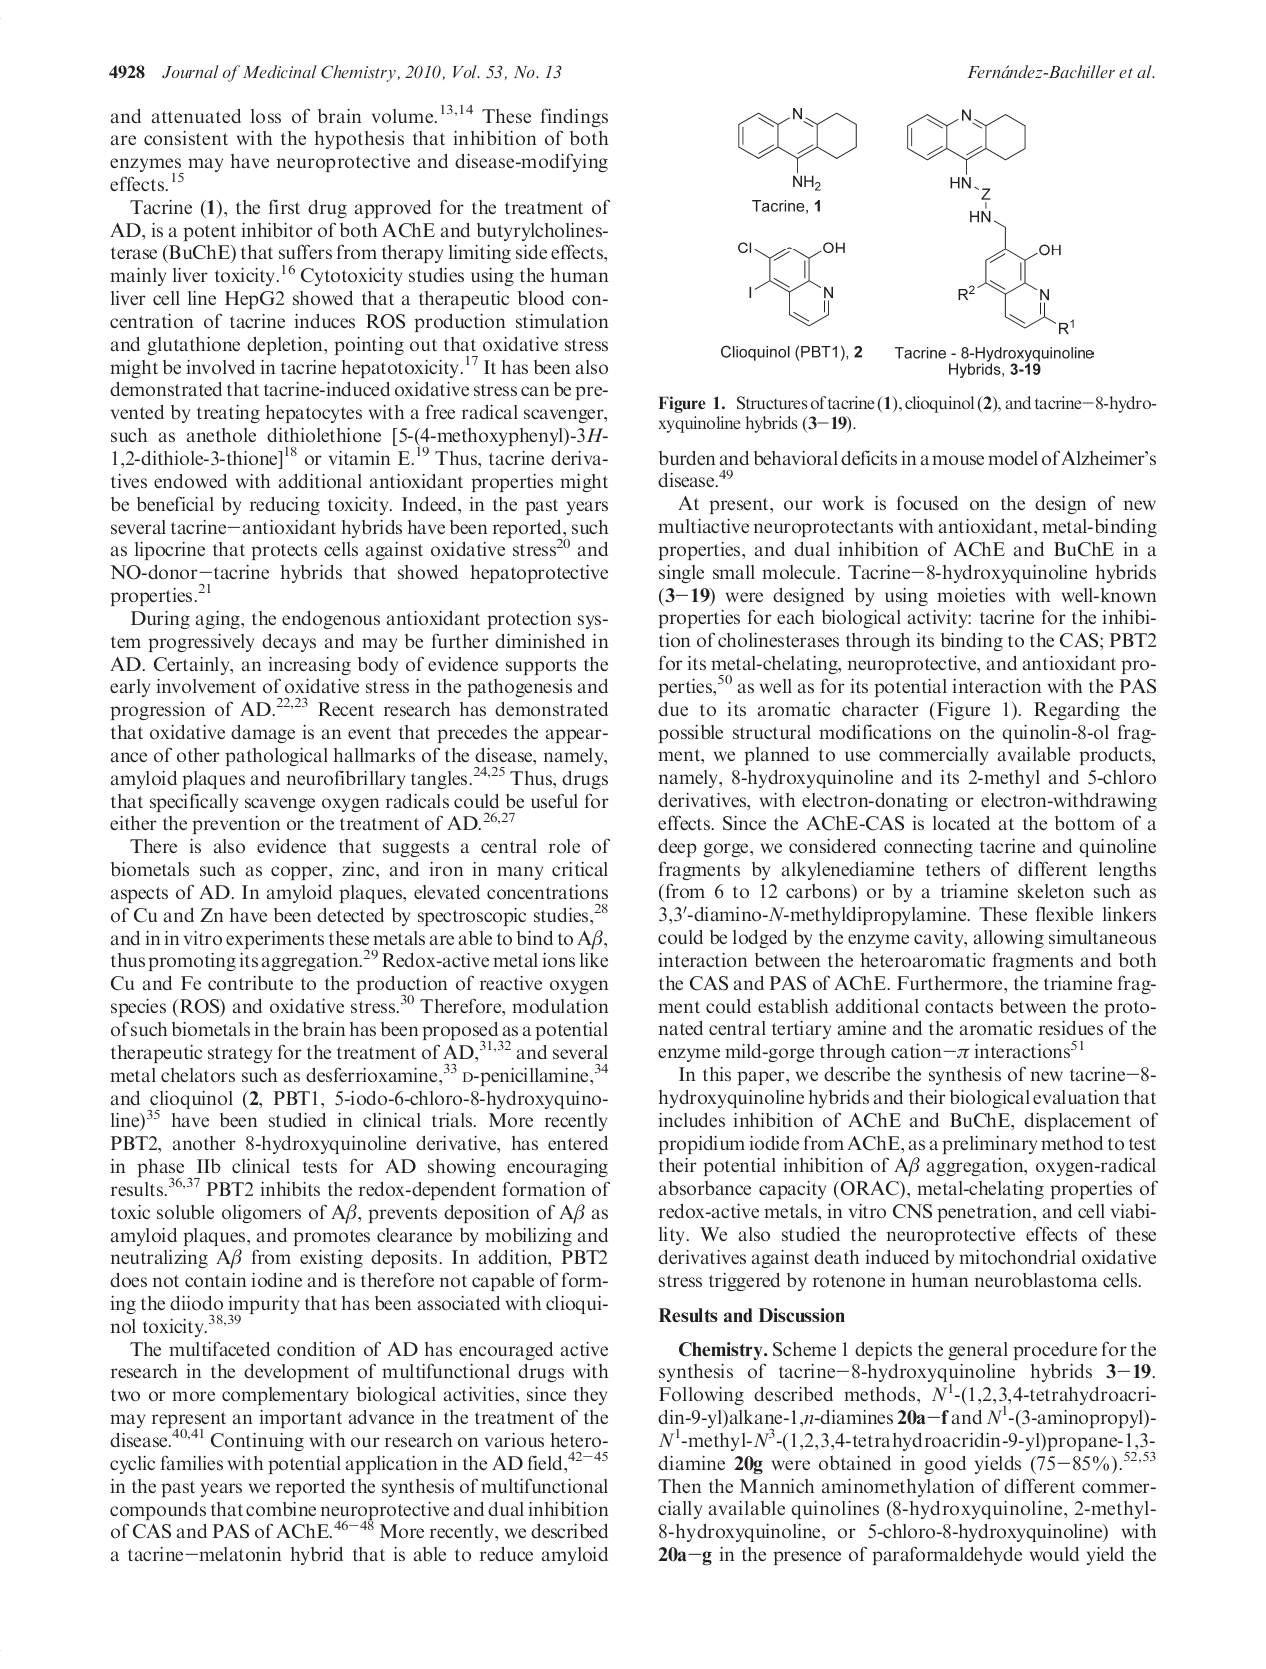exist_molecular: (904, 106, 1076, 332), (737, 106, 860, 192), (735, 238, 847, 327)
